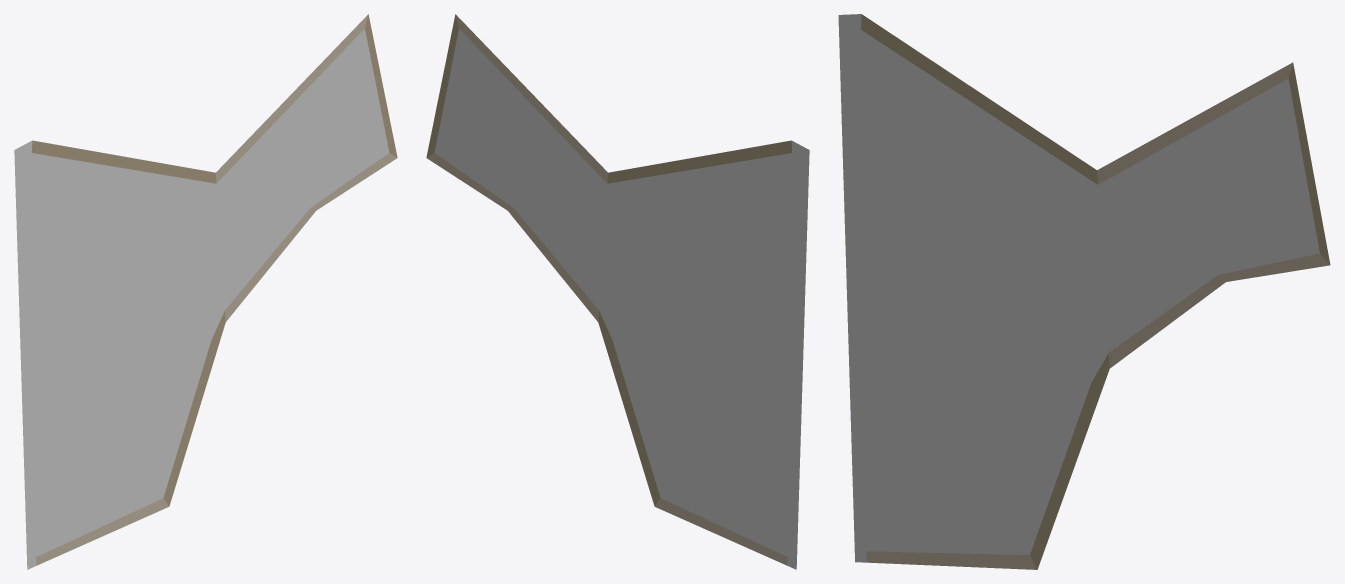
Rendered from treasureQuestPuzzlePiecesD.glb.
3 views of the same model, side by side, from view 1: azimuth 30°, elevation 25°; view 2: azimuth 150°, elevation 25°; view 3: azimuth 330°, elevation 25° (orthographic). The views are drawn at different scales.
Parts seen in each view (by area): view 1: treasureQuestPuzzlePiecesD; view 2: treasureQuestPuzzlePiecesD; view 3: treasureQuestPuzzlePiecesD.
Part boxes in pixels (x1=…): treasureQuestPuzzlePiecesD: x1=14, y1=14, x2=397, y2=569; treasureQuestPuzzlePiecesD: x1=426, y1=14, x2=809, y2=569; treasureQuestPuzzlePiecesD: x1=838, y1=14, x2=1330, y2=569.
Bounding box in the file's own units: 0.6412 × 0.7557 × 0.
